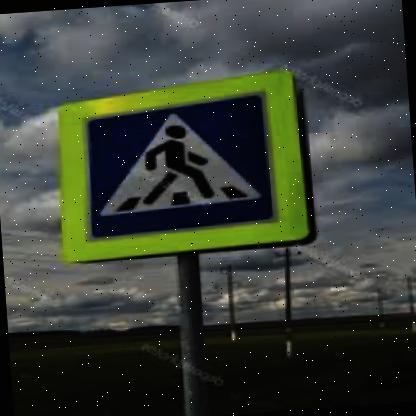crosswalk: (86, 91, 280, 236)
